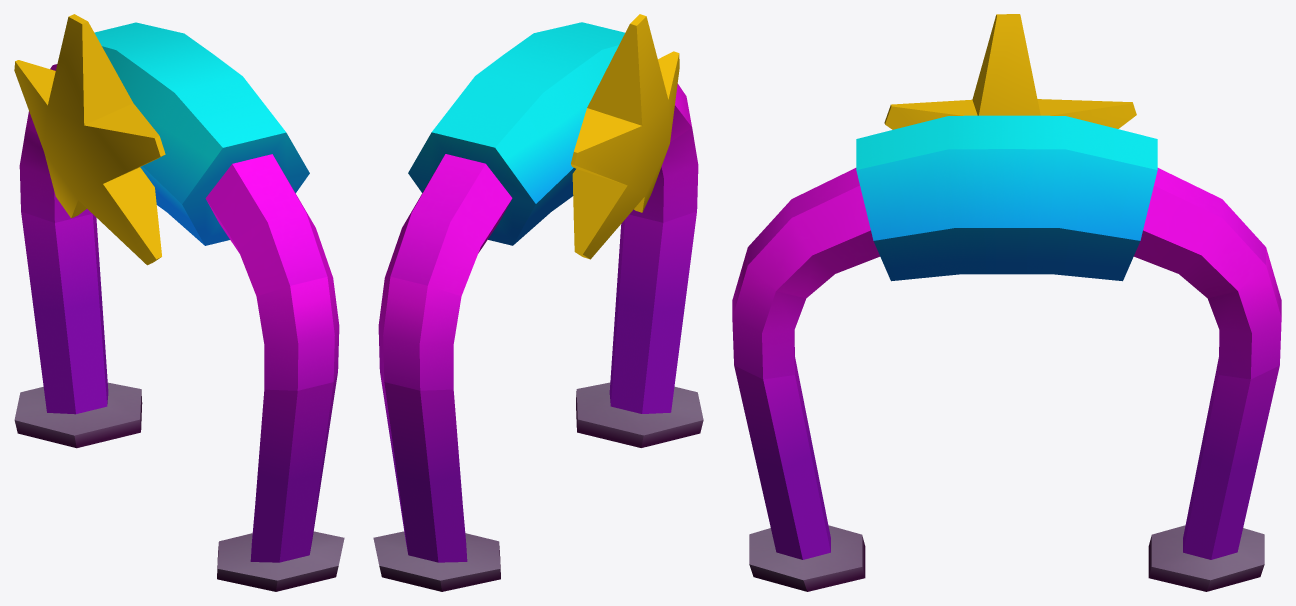
The model's file is R3-Gate.fbx.
3 renders of one model, left to right at view 1: azimuth 30°, elevation 25°; view 2: azimuth 150°, elevation 25°; view 3: azimuth 270°, elevation 25°, orthographic.
Visible parts, largest first — view 1: pCylinder3, pPrism1; view 2: pCylinder3, pPrism1; view 3: pCylinder3, pPrism1.
Part boxes in pixels (left/top/right/bottom): pCylinder3: left=14, top=22, right=344, bottom=591; pPrism1: left=14, top=14, right=165, bottom=265; pCylinder3: left=373, top=22, right=703, bottom=591; pPrism1: left=571, top=14, right=679, bottom=259; pCylinder3: left=732, top=115, right=1281, bottom=591; pPrism1: left=884, top=14, right=1136, bottom=129.
Size of the model in its own units: 21.42 by 54.47 by 54.36.
